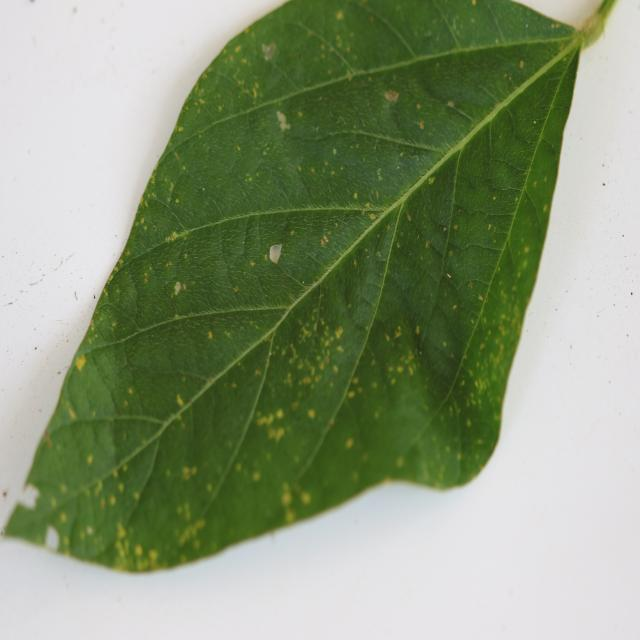Soybean: (0, 0, 612, 576)
downey_mildew: (59, 405, 188, 562), (115, 215, 197, 319), (283, 323, 345, 410), (283, 138, 352, 196), (476, 285, 522, 371), (381, 336, 420, 394), (225, 66, 264, 112), (279, 478, 315, 525), (255, 408, 287, 444), (324, 325, 343, 348), (475, 376, 489, 394), (183, 465, 197, 480), (256, 414, 268, 428), (177, 396, 184, 407)
